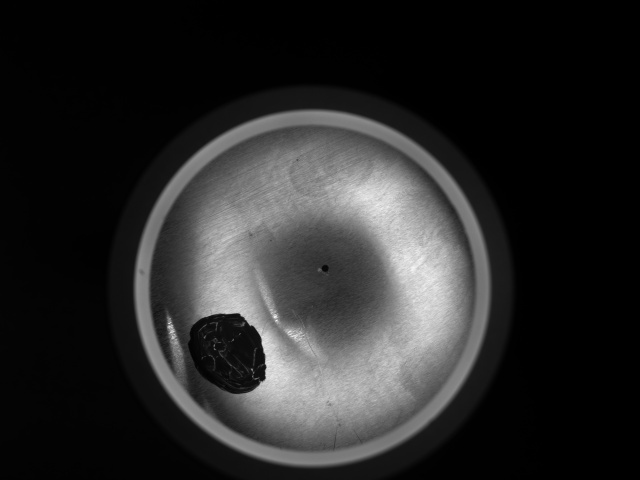zang_wu: (183, 310, 271, 397)
zhen_kong: (316, 259, 332, 276)
